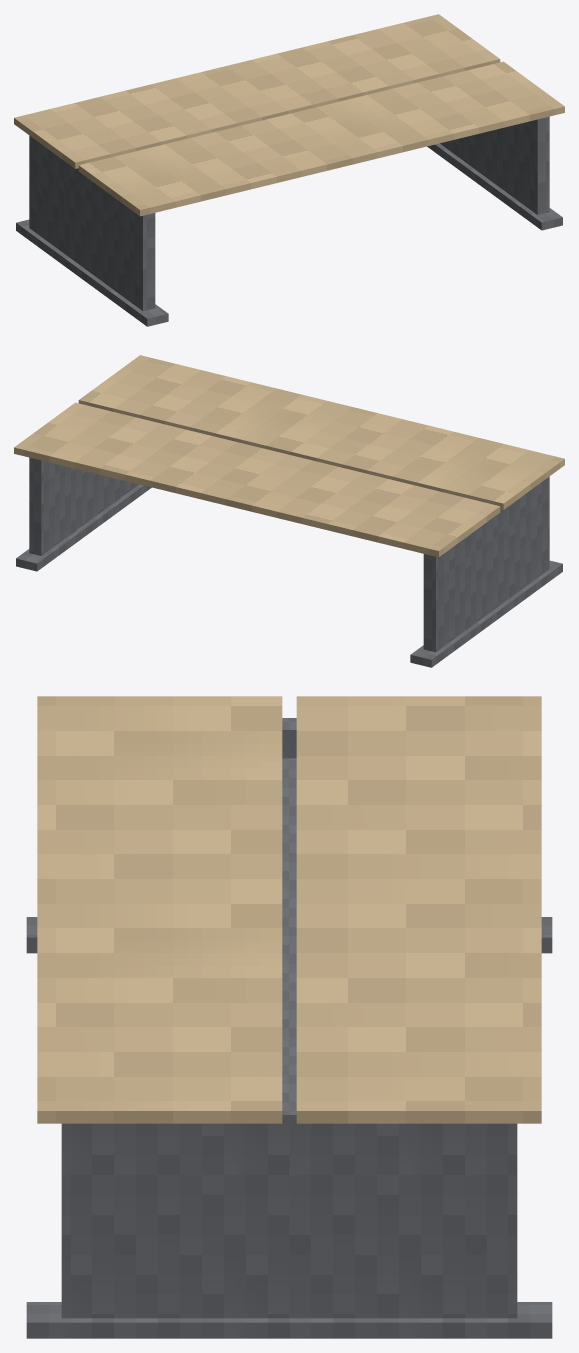
File: pixel-modern-office-desk-bench-two-11f679cb.glb
3 views of the same model, one above another, from view 1: azimuth 30°, elevation 25°; view 2: azimuth 150°, elevation 25°; view 3: azimuth 270°, elevation 25° (orthographic). The views are drawn at different scales.
Parts seen in each view (by area): view 1: desk-bench-two; view 2: desk-bench-two; view 3: desk-bench-two.
Part boxes in pixels (x1=…): desk-bench-two: x1=14, y1=14, x2=564, y2=326; desk-bench-two: x1=14, y1=355, x2=564, y2=667; desk-bench-two: x1=26, y1=696, x2=552, y2=1338.
Bounding box in the file's own units: 2.8 × 0.7301 × 1.5.
Materials: 2 (2 with a texture image).
